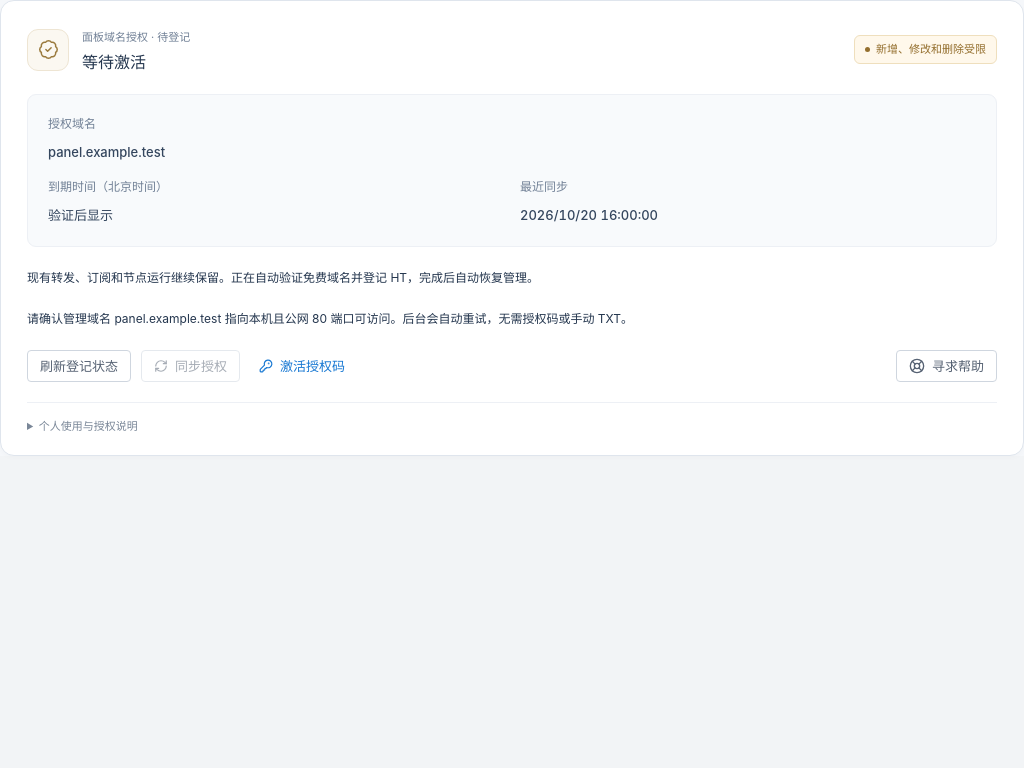
Test case: Panel license UI › shows automatic registration pending and refreshes without requiring DNS or a code
Click the button "刷新登记状态".
click(79, 366)  # box [27,350,131,382]
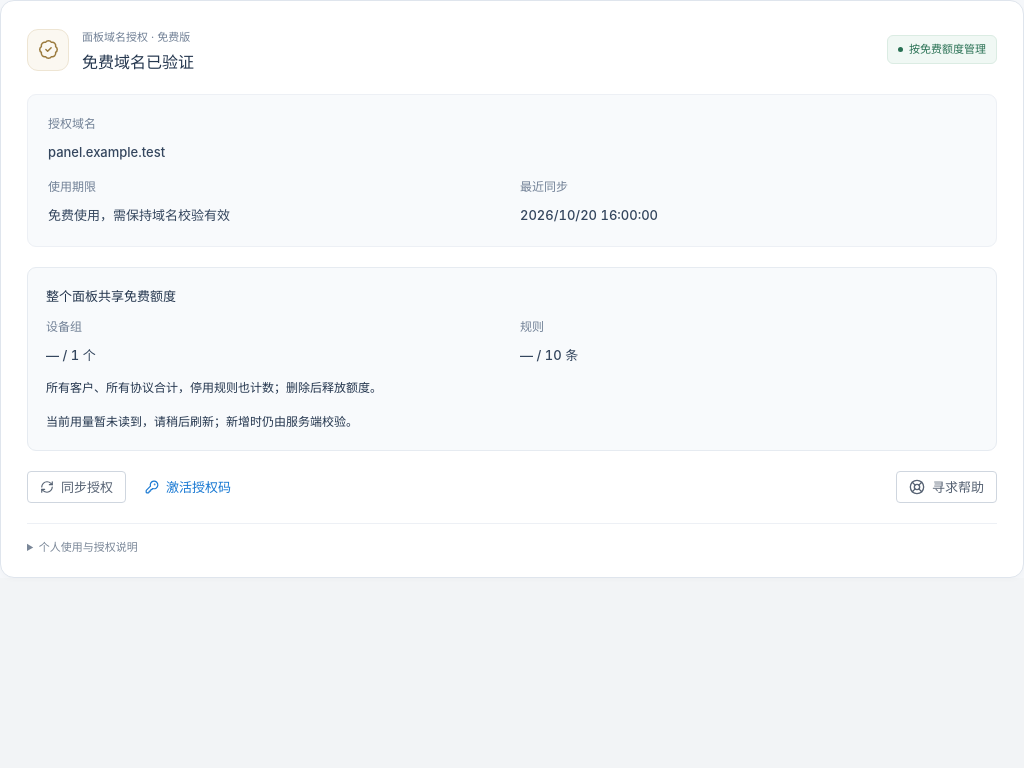
Now the text "免费域名已验证" is shown, box [82,50,194,74]
